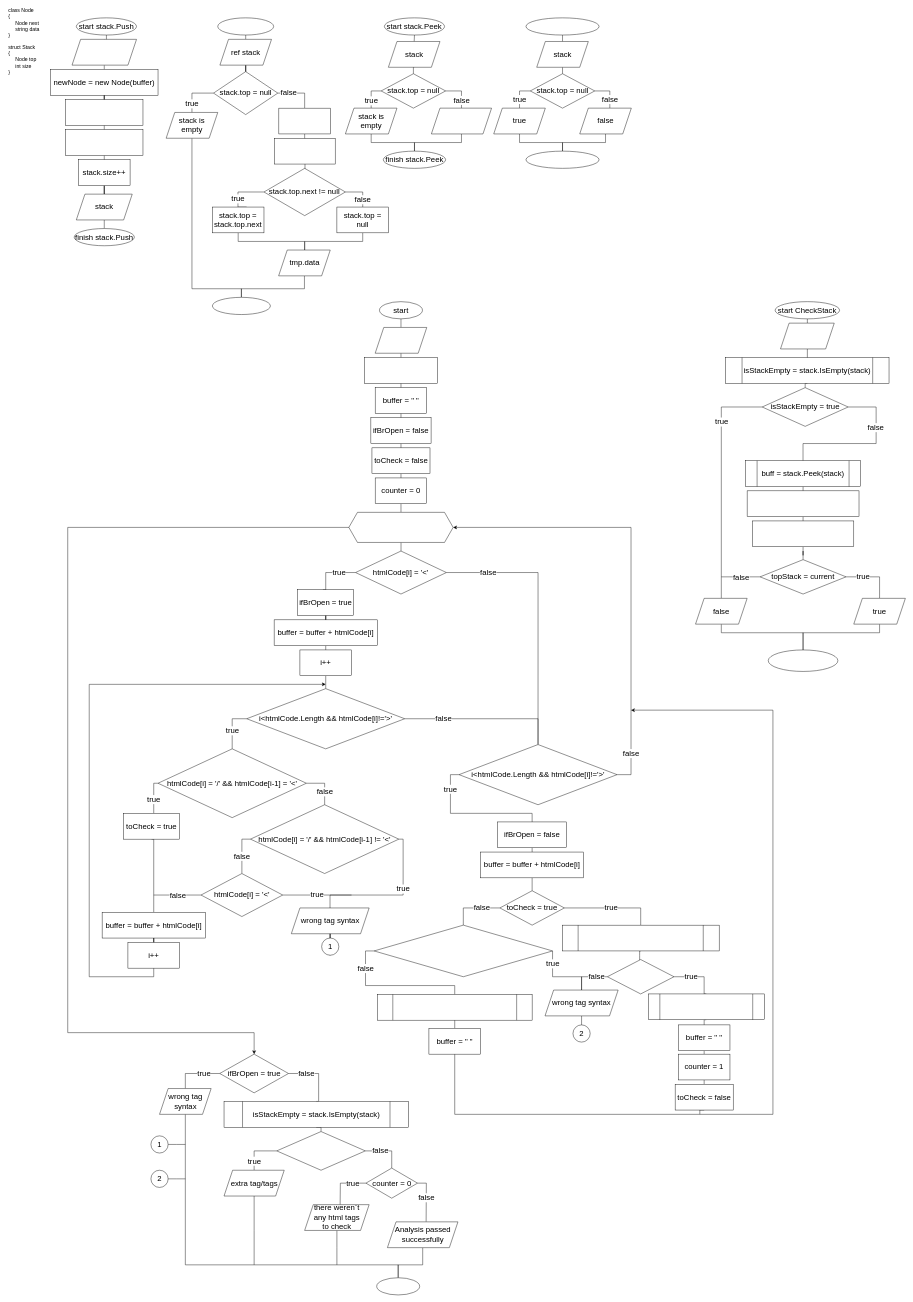
Image size: 913x1302. Some labels were removed from this diagram. Each missing label, with the centre of its shape:
"buffer, ref stack" belongs at pixel 104 52.
"buffer, stack" belongs at pixel 807 336.
"buffer.Length <=2 || buffer.Contains(' ') = true" belongs at pixel 463 951.
"current = buffer.Substring(2)" belongs at pixel 803 534.
"finish" belongs at pixel 398 1286.
"finish CheckStack" belongs at pixel 803 660.
"finish stack.IsEmpty" belongs at pixel 562 159.
"finish stack.Pop" belongs at pixel 241 306.
"htmlCode" belongs at pixel 401 340.
"i=0; i<htmlCode.Length; i++" belongs at pixel 400 527.
"isOk = CheckStack(buffer, stack)" belongs at pixel 640 938.
"isOk = true" belongs at pixel 640 976.
"isStackEmpty = false" belongs at pixel 320 1150.
"newNode.next = stack.top" belongs at pixel 104 112.
"stack = new Stack()" belongs at pixel 401 370.
"stack = stack.Push(buffer, ref stack)" belongs at pixel 454 1007.
"stack.size--" belongs at pixel 304 121.
"stack.top = newNode" belongs at pixel 104 142.
"stack.top.data" belongs at pixel 461 121.
"start stack.IsEmpty" belongs at pixel 562 26.
"start stack.Pop" belongs at pixel 245 26.
"tmp = stack.Pop(ref stack)" belongs at pixel 706 1007.
"tmp = stack.top" belongs at pixel 304 151.
"topStack = buff.Substring(1)" belongs at pixel 803 503.
